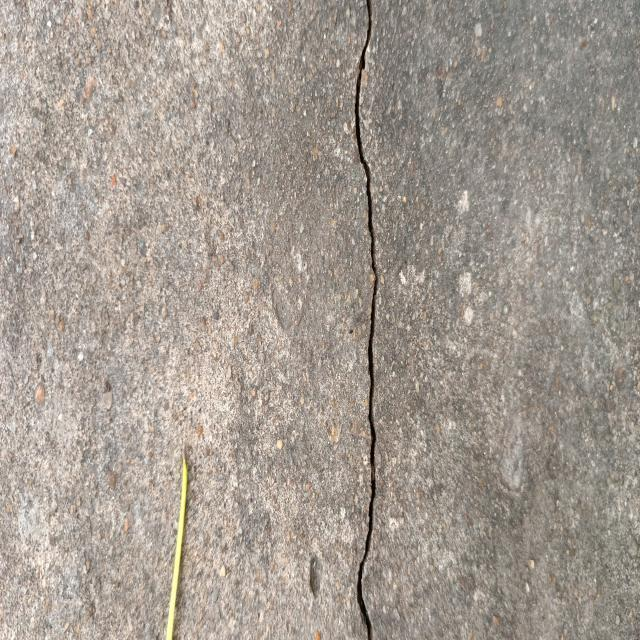vertical cracks: (355, 0, 378, 639)
